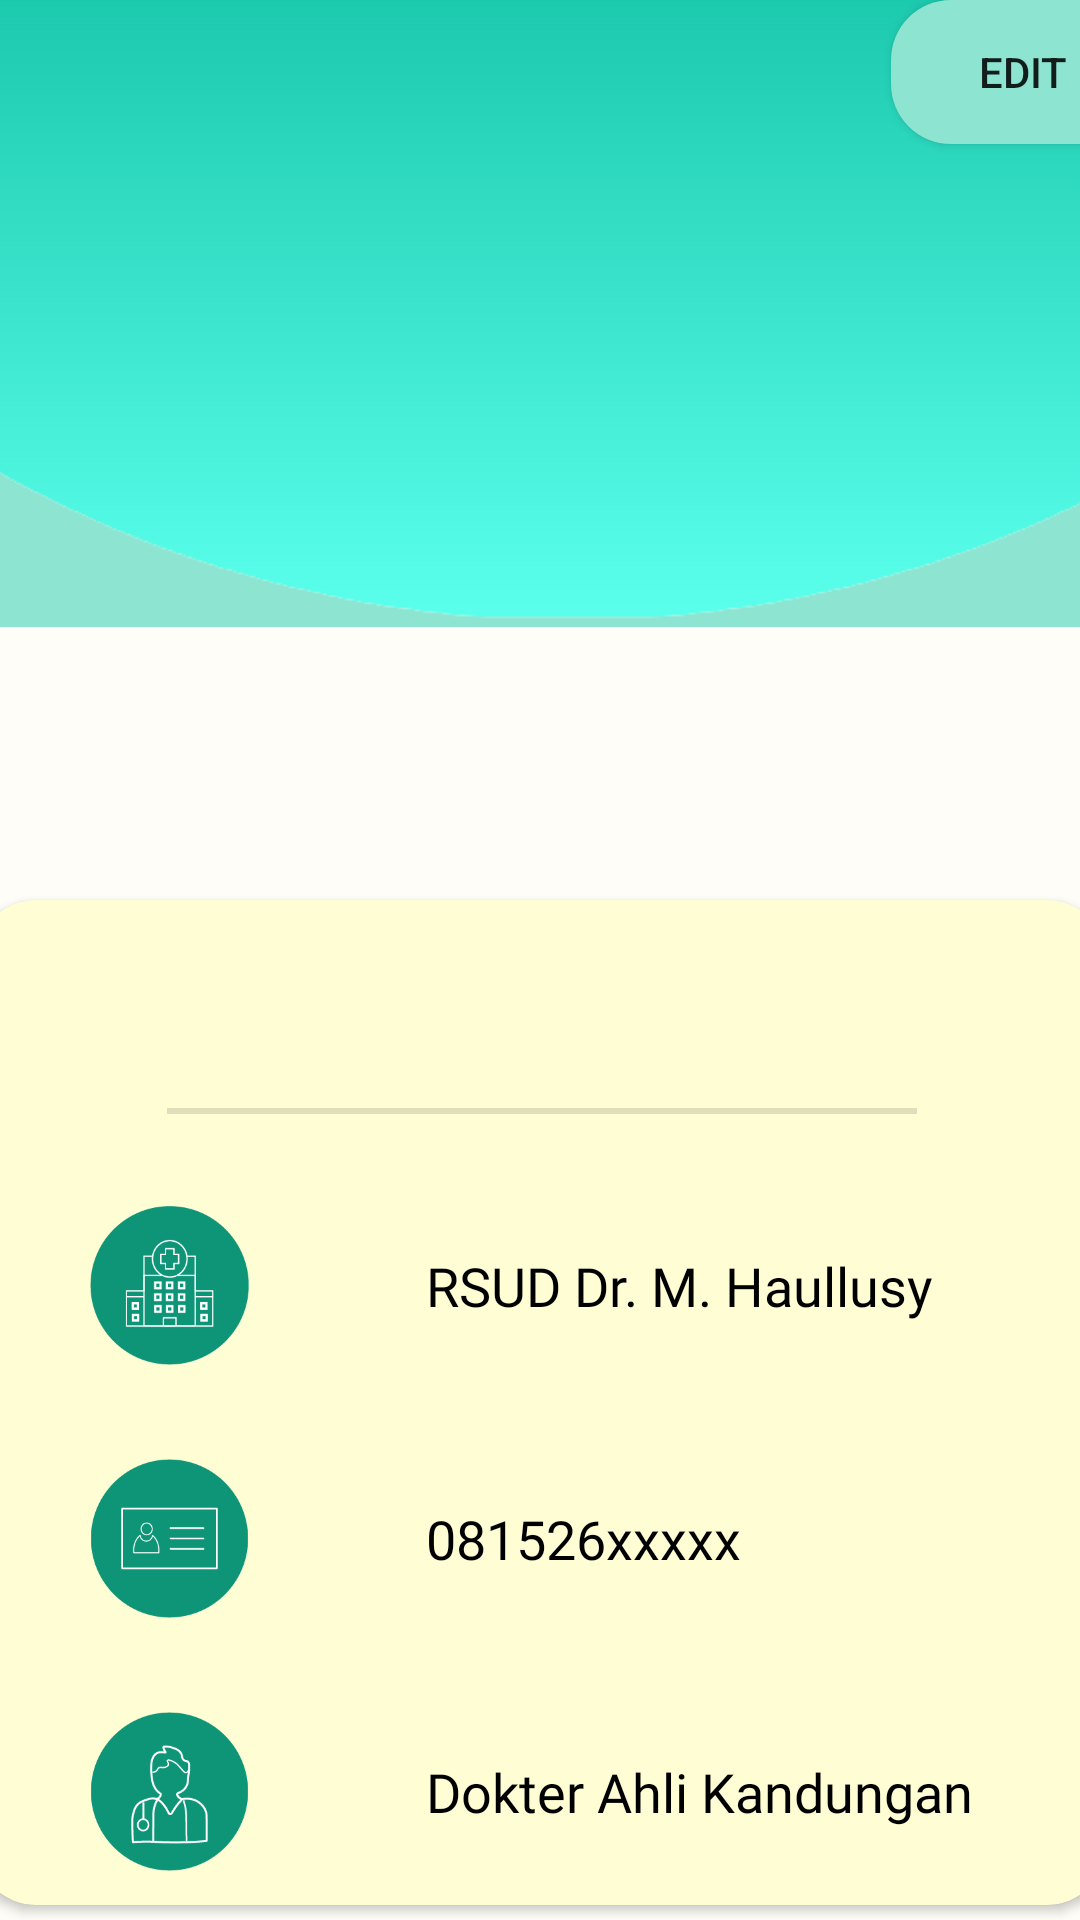

Icons on this 1080×1920 Android screen, each with the point to tap as [x,y]:
profile id: [169,1538]
profile occupation: [169,1791]
profile rs: [169,1285]
